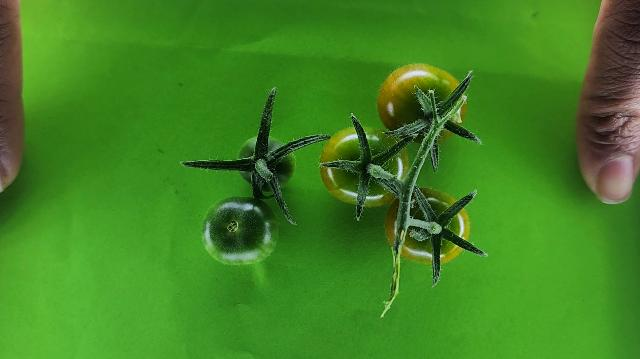Fruit Maturation: (200, 196, 281, 267), (237, 136, 297, 193)
Fully Grown: (317, 125, 412, 209), (376, 62, 466, 144), (385, 189, 472, 266)
